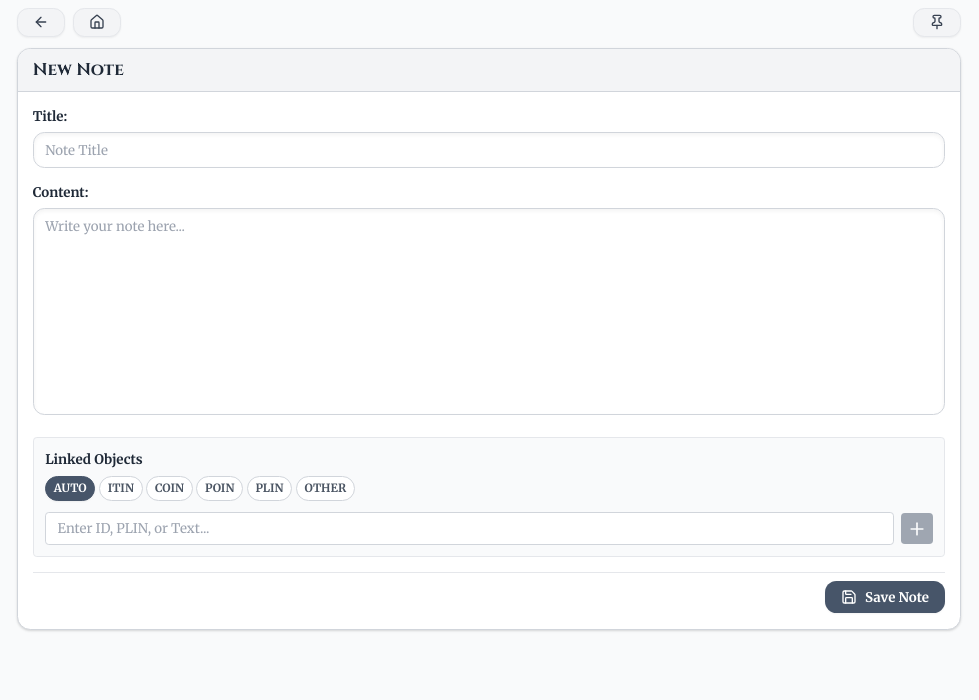
Test case: CreateNote Page › validates title requirement
Click the button "Save Note" at (885, 597), box [825,581,945,613]
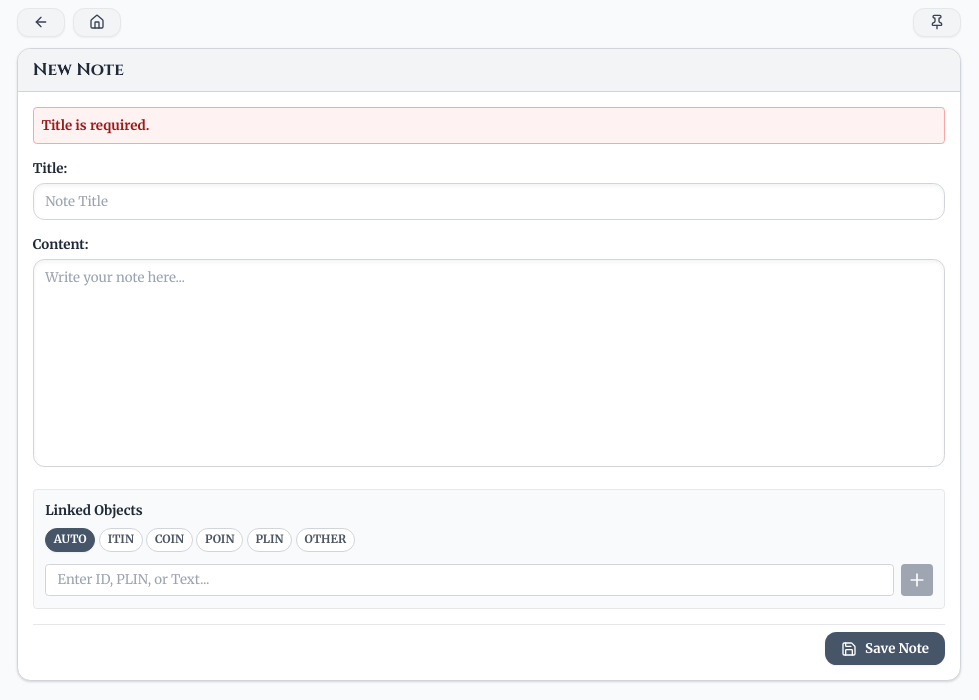
Check: the text "Title is required." is shown, box [41,117,149,134]
